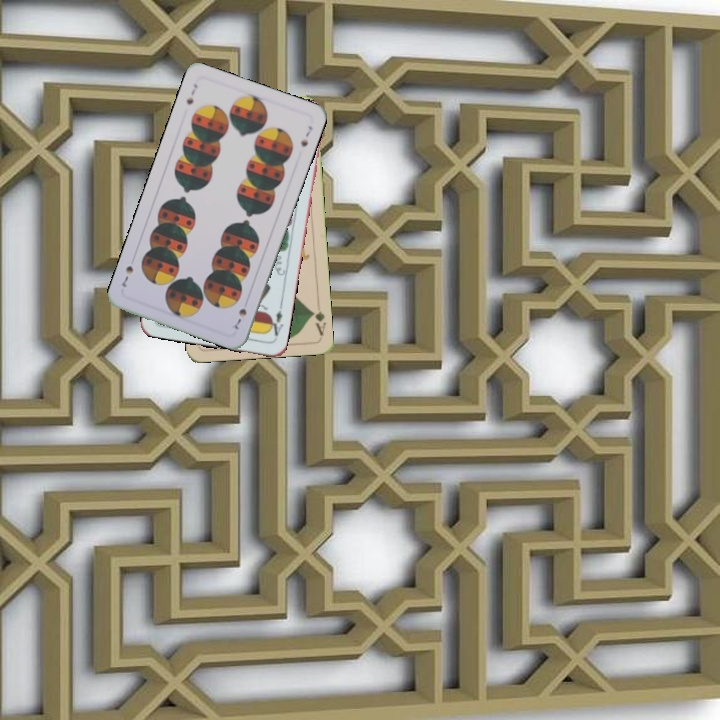EA: (264, 301, 286, 341)
GA: (307, 307, 328, 338)
S7: (230, 304, 249, 332), (182, 80, 200, 107)
